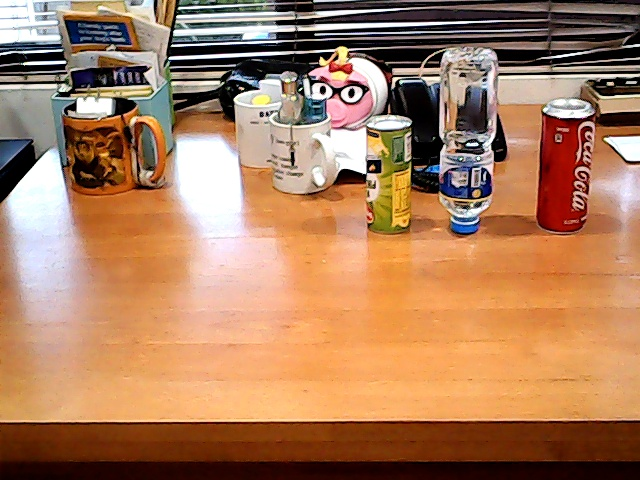Cola: (527, 92, 602, 244)
Pine Juice: (352, 106, 423, 245)
Summit Water: (428, 36, 510, 250)
